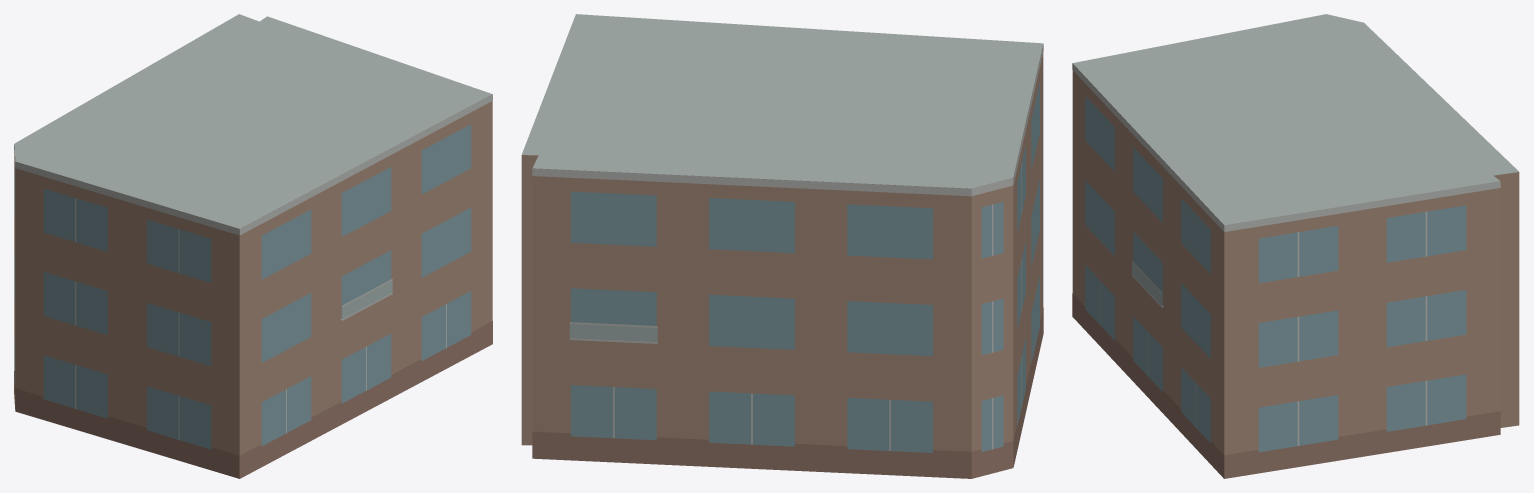
The model's file is survey-upis-32971402.glb.
The picture shows the model from 3 angles, left to right: view 1: azimuth 30°, elevation 25°; view 2: azimuth 150°, elevation 25°; view 3: azimuth 270°, elevation 25°; orthographic projection. The views are drawn at different scales.
Parts seen in each view (by area): view 1: survey-upis-32971402.tmp; view 2: survey-upis-32971402.tmp; view 3: survey-upis-32971402.tmp.
Part boxes in pixels (x1,y1,x2,y2): survey-upis-32971402.tmp: (14, 14, 492, 478); survey-upis-32971402.tmp: (521, 14, 1043, 478); survey-upis-32971402.tmp: (1072, 14, 1519, 478).
Bounding box in the file's own units: 16.37 × 9.15 × 14.63.
